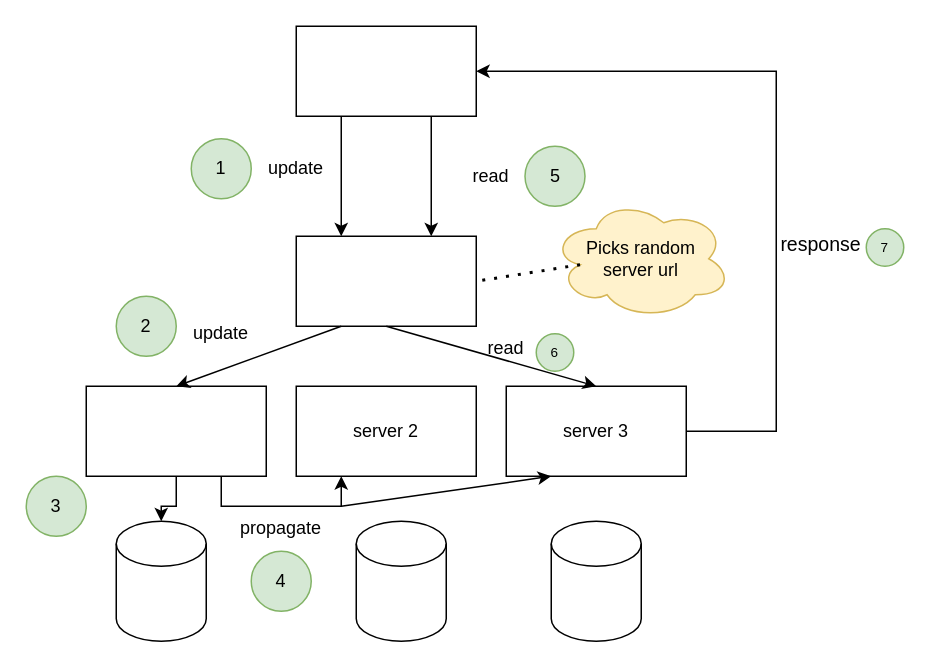
The diagram is 930 pixels wide and 668 high, and some of its shapes have lost their labels. The centre of each missing label's shape, as x and y in pixels:
"Client" goes at (385,70).
"Load Balancer" goes at (385,280).
"server 1" goes at (175,430).
